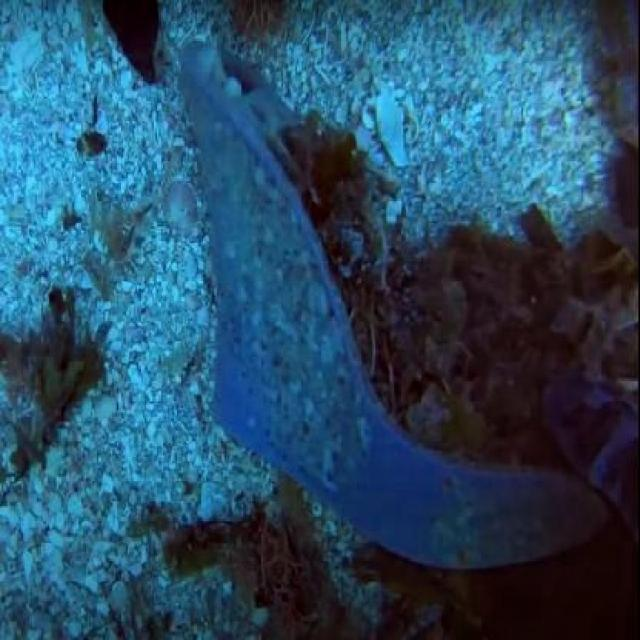Rubber: (123, 34, 640, 633)
